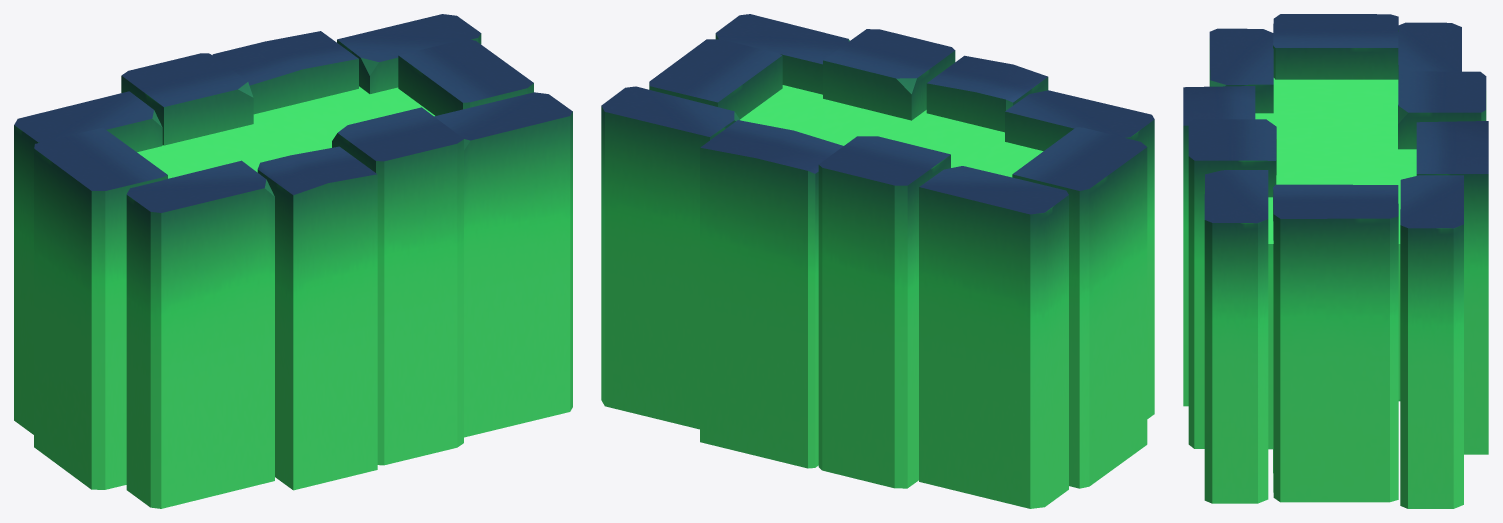
3 renders of one model, left to right at view 1: azimuth 30°, elevation 25°; view 2: azimuth 150°, elevation 25°; view 3: azimuth 270°, elevation 25°, orthographic. The views are drawn at different scales.
Parts seen in each view (by area): view 1: anObstacle02; view 2: anObstacle02; view 3: anObstacle02.
Part boxes in pixels (x1,y1,x2,y2): anObstacle02: [14, 14, 572, 508]; anObstacle02: [601, 14, 1154, 508]; anObstacle02: [1183, 14, 1488, 508].
Bounding box in the file's own units: 3.99 × 2.54 × 2.43.
Materials: 1 (1 with a texture image).
